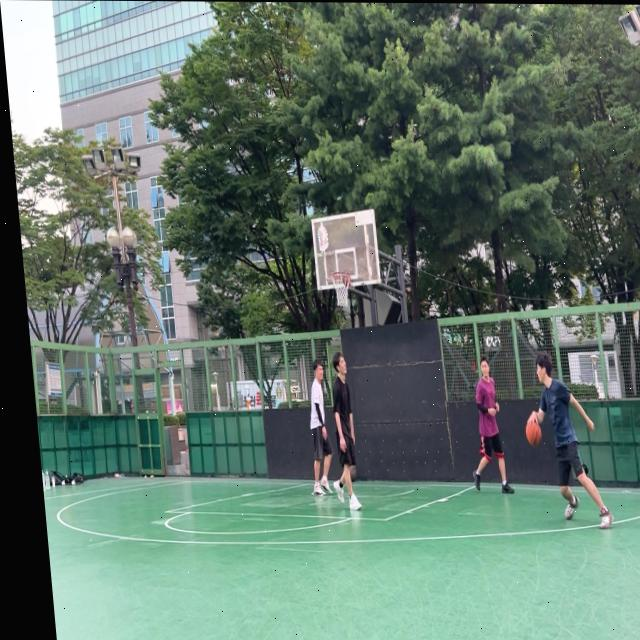basketball: (525, 421, 543, 447), (349, 466, 357, 483)
hoop: (330, 271, 354, 308)
